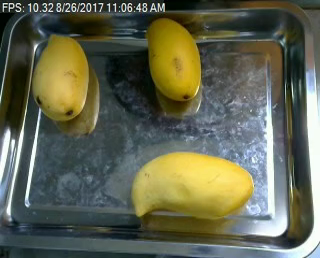Mango: (128, 147, 257, 232), (32, 27, 96, 127), (140, 16, 204, 106)
